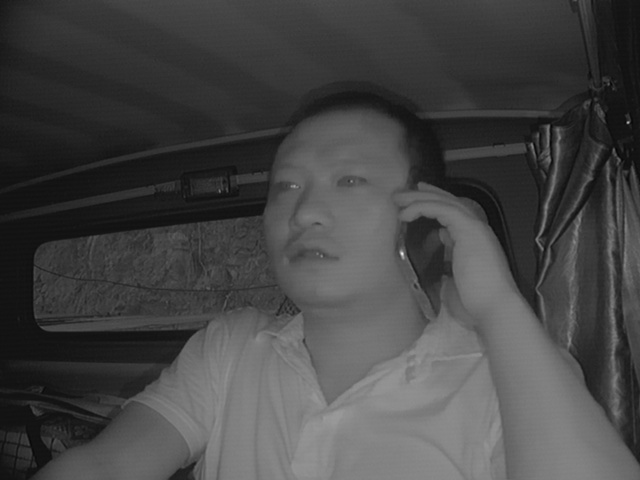hand: (396, 178, 506, 321)
